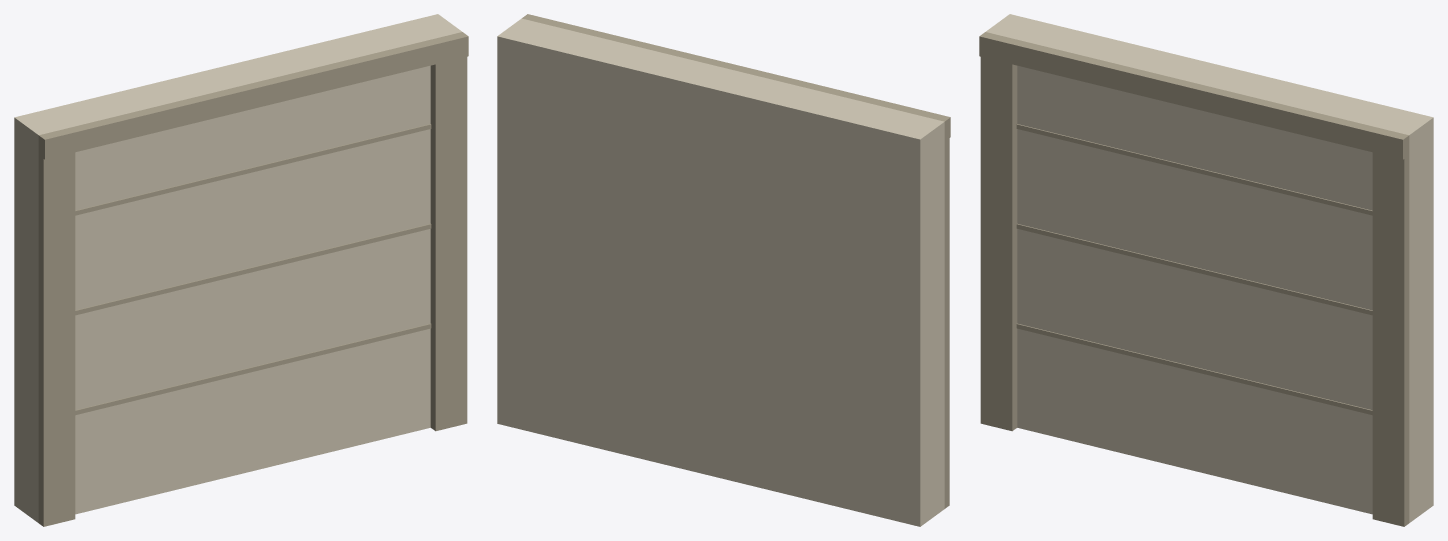
File: co_plain.glb
3 renders of one model, left to right at view 1: azimuth 30°, elevation 25°; view 2: azimuth 150°, elevation 25°; view 3: azimuth 330°, elevation 25°, orthographic.
Visible parts, largest first — view 1: city_co_plain; view 2: city_co_plain; view 3: city_co_plain.
Part boxes in pixels (box(x1,y1,x2,y2)): city_co_plain: box(14, 14, 468, 526); city_co_plain: box(497, 14, 950, 526); city_co_plain: box(979, 14, 1433, 526).
Size of the model in its own units: 4 by 3.5 by 0.5.
1 material, 1 textured.
